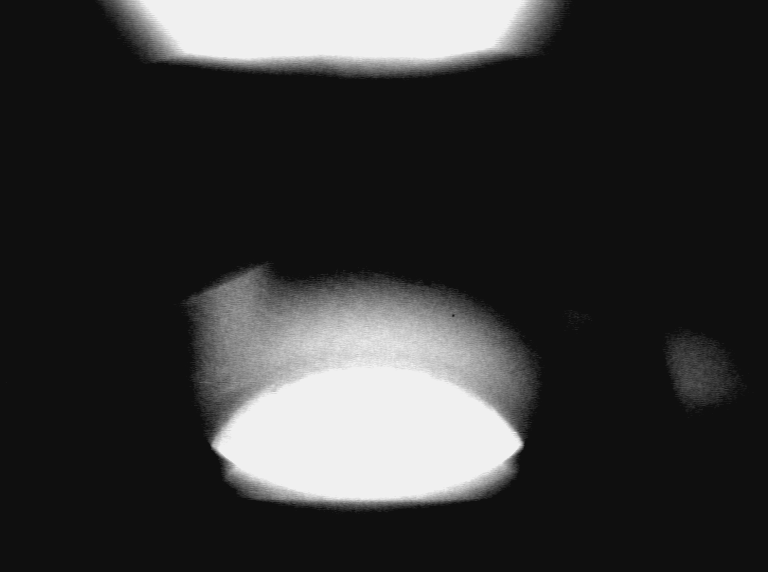defect: (186, 272, 270, 406)
